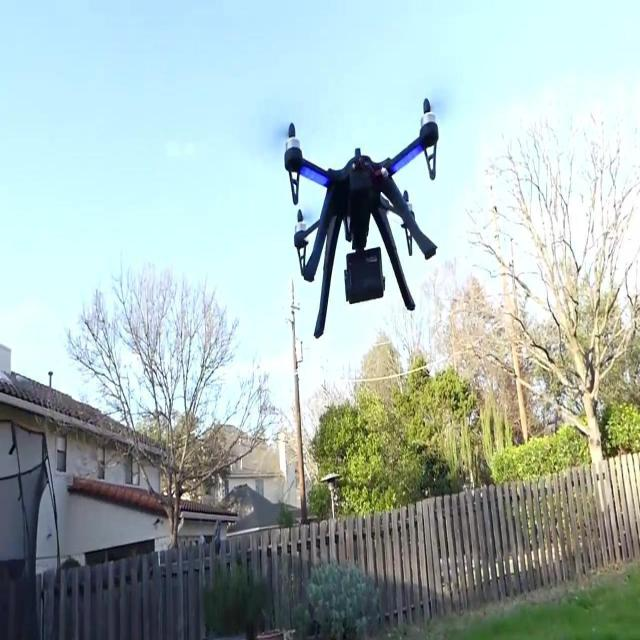UAV: (279, 97, 447, 339)
